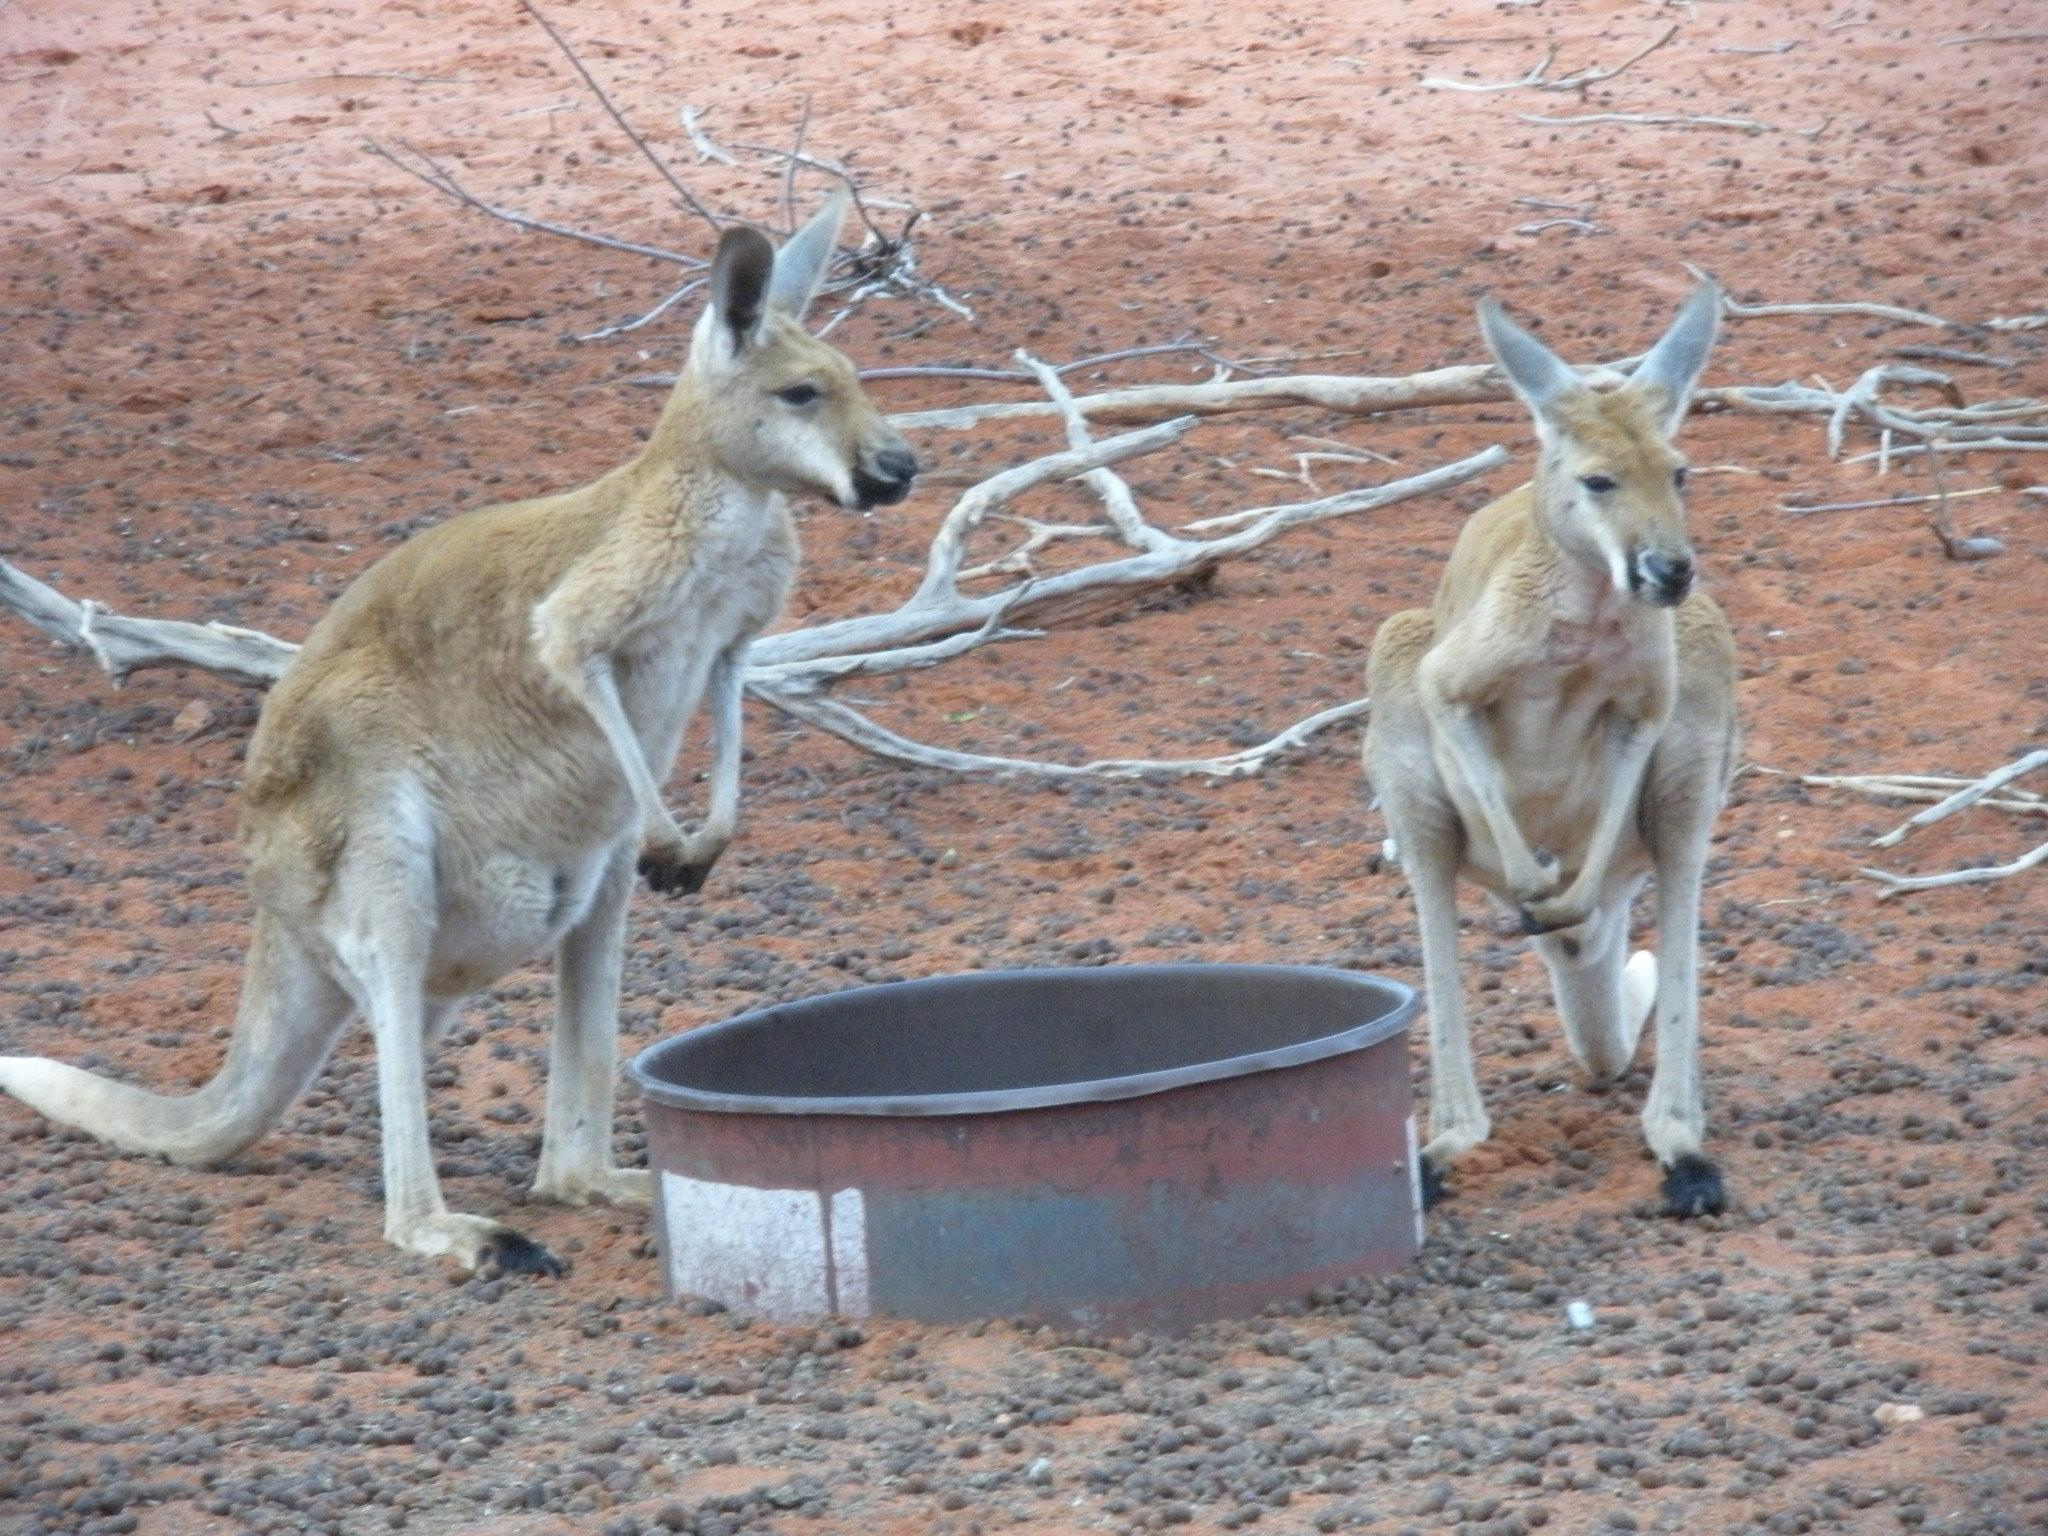Red kangaroo: (0, 190, 913, 1288), (1358, 281, 1758, 1221)
